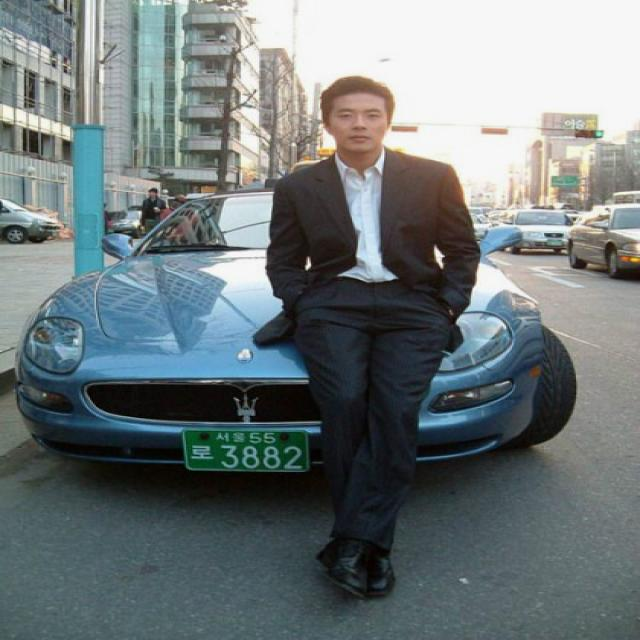car: (15, 181, 585, 493)
illegal_plate: (180, 427, 314, 481)
